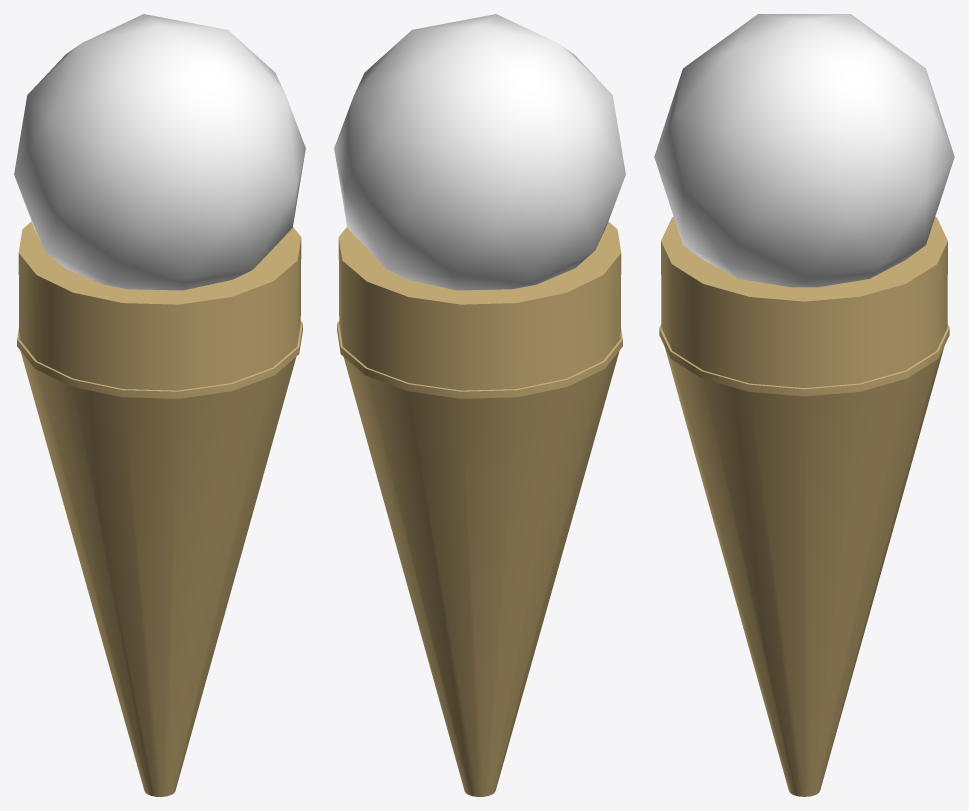
Rendered from IceCream.fbx.
3 views of the same model, side by side, from view 1: azimuth 30°, elevation 25°; view 2: azimuth 150°, elevation 25°; view 3: azimuth 270°, elevation 25° (orthographic).
Visible parts, largest first — view 1: IceCream; view 2: IceCream; view 3: IceCream.
Boxes of the visible parts, x1,y1,x2,y2 form: IceCream: (14, 14, 305, 796); IceCream: (334, 14, 625, 796); IceCream: (654, 14, 954, 796).
Size of the model in its own units: 6.62 by 19.37 by 6.85.
